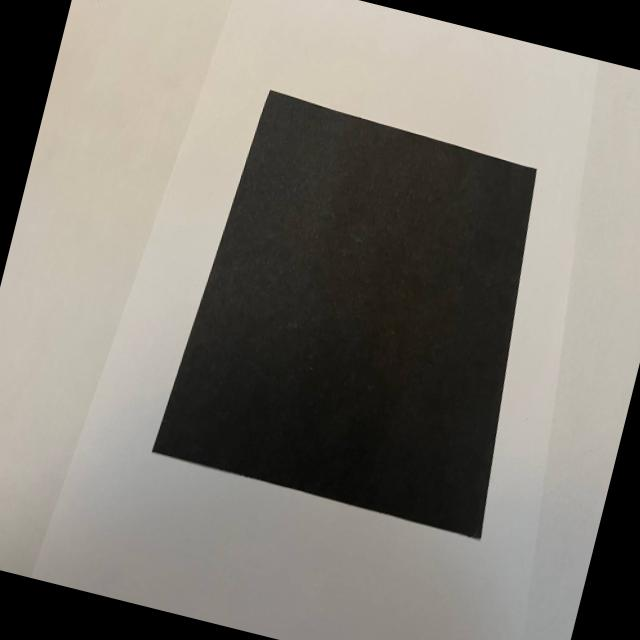Box: (151, 92, 534, 538)
